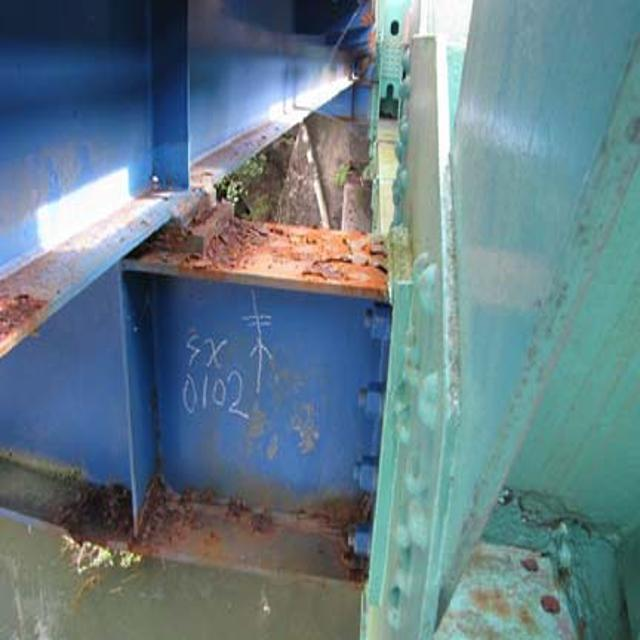corrosion: (63, 459, 391, 594), (133, 179, 414, 317), (3, 276, 57, 350)
